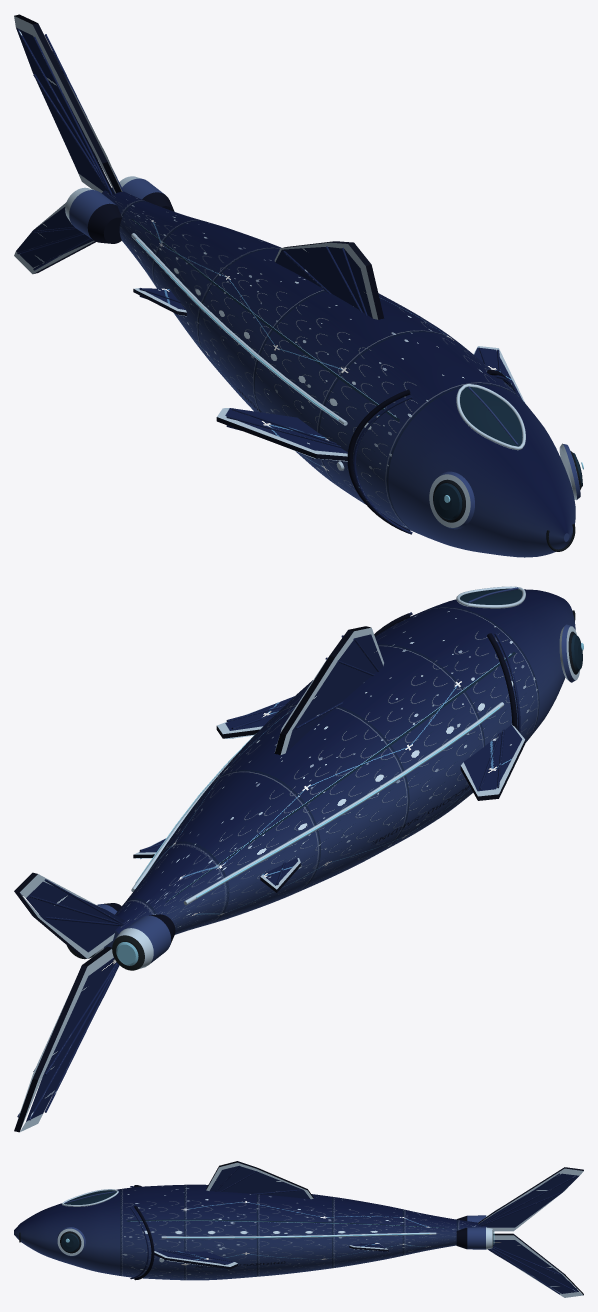
3 renders of one model, top to bottom at view 1: azimuth 30°, elevation 25°; view 2: azimuth 150°, elevation 25°; view 3: azimuth 270°, elevation 25°, orthographic. The views are drawn at different scales.
Parts seen in each view (by area): view 1: sardine_hull; view 2: sardine_hull; view 3: sardine_hull.
Part boxes in pixels (box(x1,y1,x2,y2)): sardine_hull: box(14, 14, 583, 557); sardine_hull: box(14, 586, 583, 1132); sardine_hull: box(14, 1161, 583, 1297).
Bounding box in the file's own units: 4.8 × 4.25 × 16.2.
Materials: 1 (1 with a texture image).
